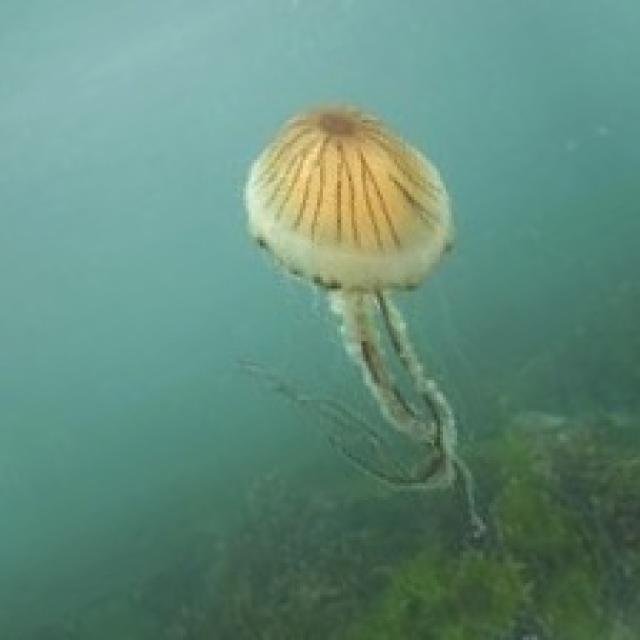Box-jellyfish: (237, 100, 489, 540)
